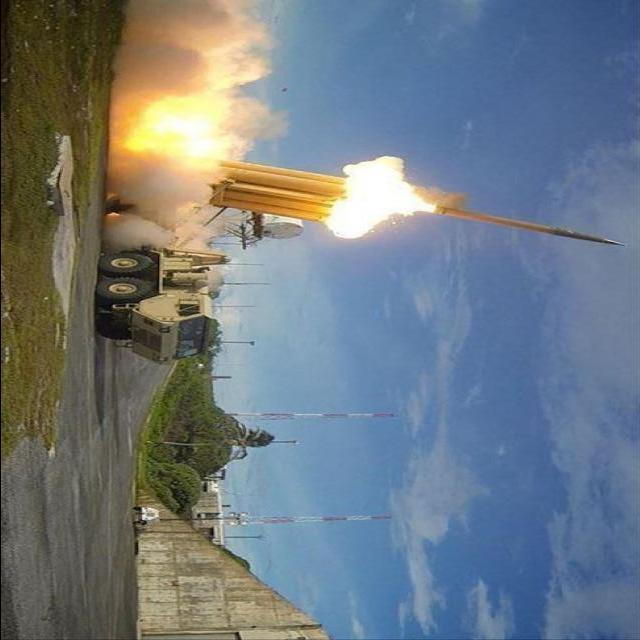Missile: (436, 204, 630, 249)
